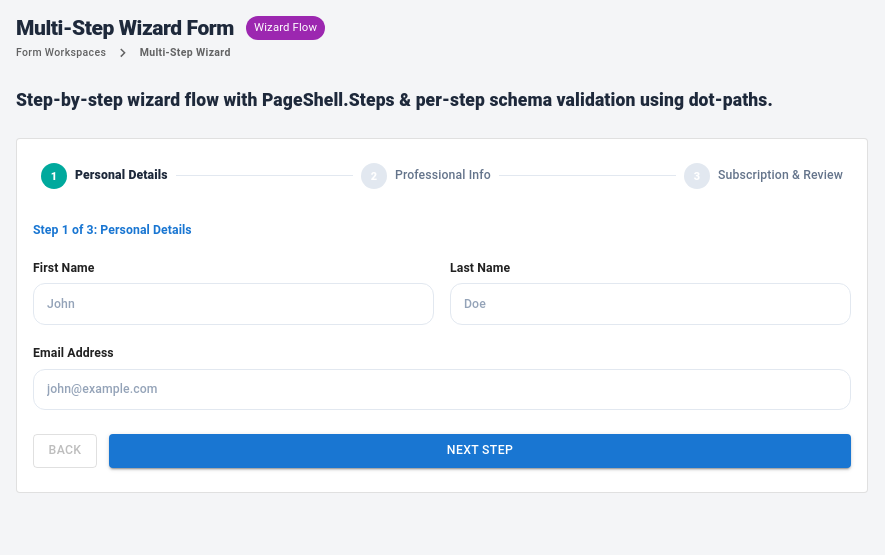
Scenario: MultiStepForm › prevents advancing to Step 2 when required fields in Step 1 are empty
This screenshot has width=885, height=555.
Step 1. Click the button "Next Step" → (480, 451), box x1=109 y1=434 x2=851 y2=468
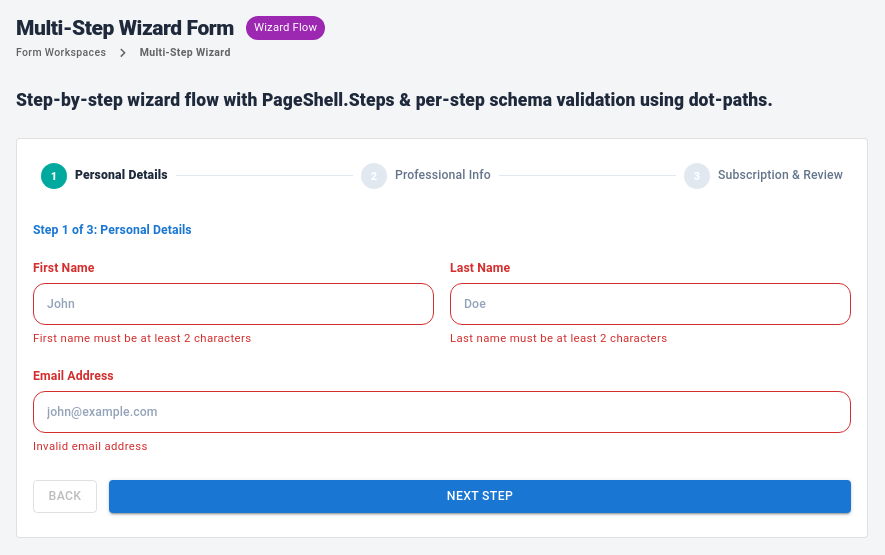
Expected: the heading "Step 1 of 3: Personal Details" is shown, x1=33 y1=222 x2=192 y2=236
Result: the text "First name must be at least 2 characters" is shown at x1=33 y1=331 x2=251 y2=345
